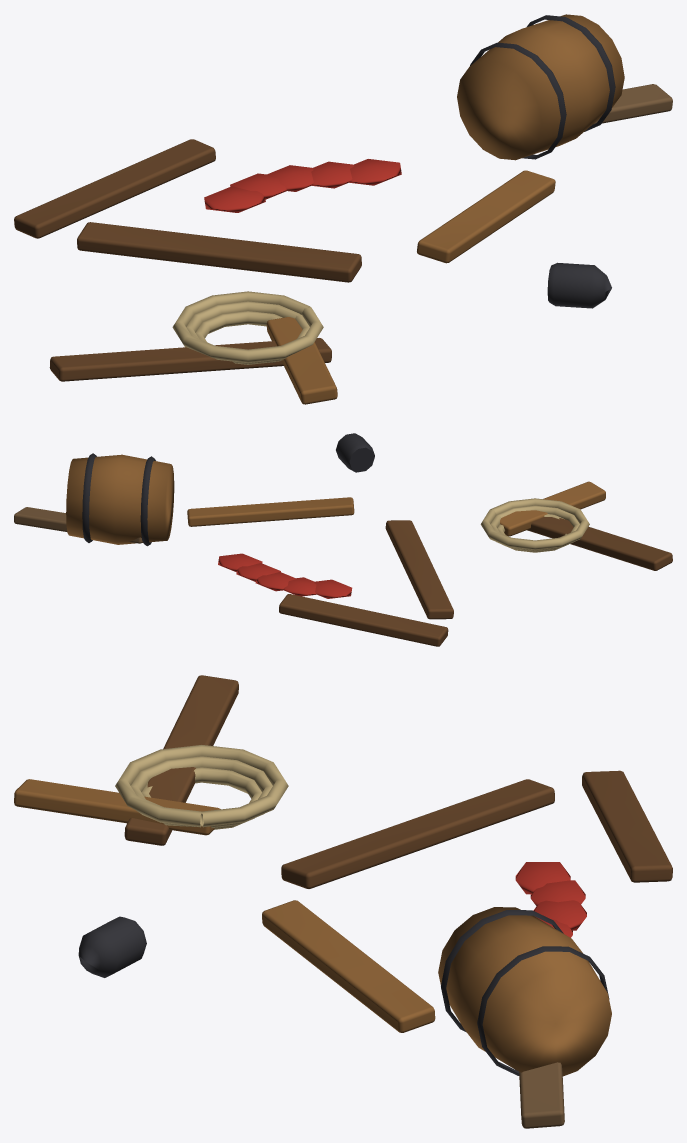
Rendered from wreck.glb.
The picture shows the model from 3 angles, top to bottom: view 1: azimuth 30°, elevation 25°; view 2: azimuth 150°, elevation 25°; view 3: azimuth 270°, elevation 25°; orthographic projection. The views are drawn at different scales.
Visible parts, largest first — view 1: wreck_main; view 2: wreck_main; view 3: wreck_main.
Part boxes in pixels (x1,y1,x2,y2): wreck_main: [14, 14, 672, 404]; wreck_main: [14, 433, 672, 646]; wreck_main: [14, 675, 672, 1128].
Size of the model in its own units: 2.79 by 0.4002 by 1.83.
